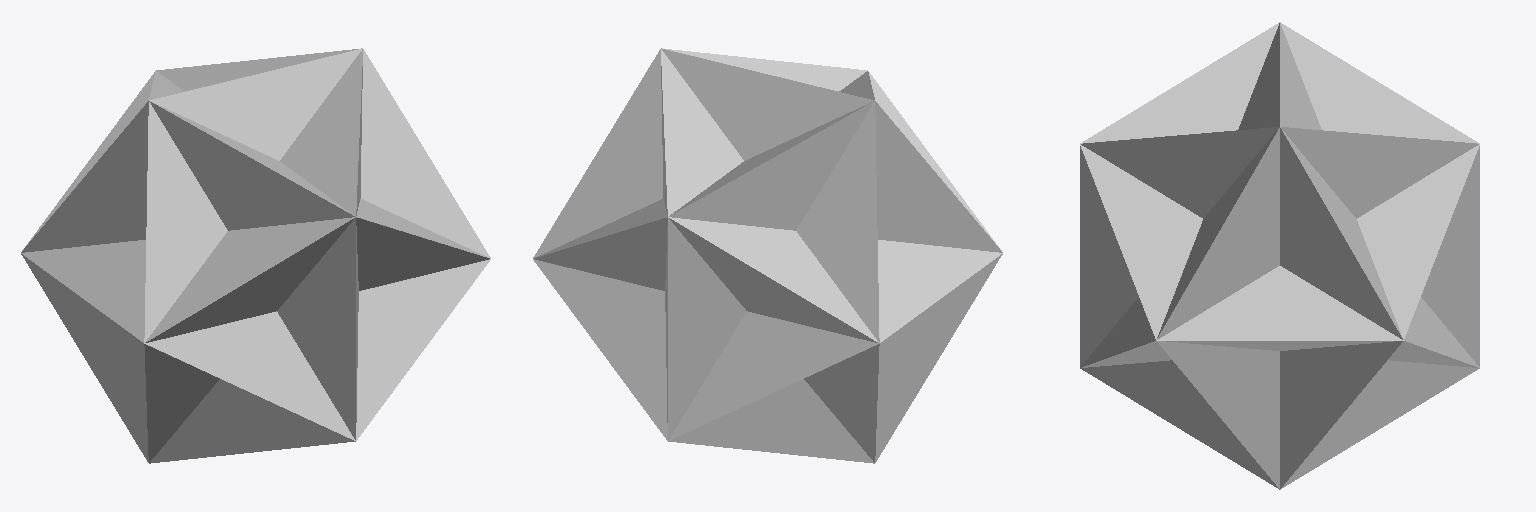
Rendered from great-dodecahedron.obj.
The picture shows the model from 3 angles: view 1: azimuth 30°, elevation 25°; view 2: azimuth 150°, elevation 25°; view 3: azimuth 270°, elevation 25°; orthographic projection.
Parts seen in each view (by area): view 1: Great_Dodecahedron_((5.5.5.5.5)/2),_W21,_p39; view 2: Great_Dodecahedron_((5.5.5.5.5)/2),_W21,_p39; view 3: Great_Dodecahedron_((5.5.5.5.5)/2),_W21,_p39.
Boxes of the visible parts, box(x1,y1,x2,y2) form: Great_Dodecahedron_((5.5.5.5.5)/2),_W21,_p39: box(21, 48, 490, 463); Great_Dodecahedron_((5.5.5.5.5)/2),_W21,_p39: box(533, 48, 1002, 463); Great_Dodecahedron_((5.5.5.5.5)/2),_W21,_p39: box(1080, 22, 1479, 489).
Bounding box in the file's own units: 2.36 × 2.36 × 2.36.